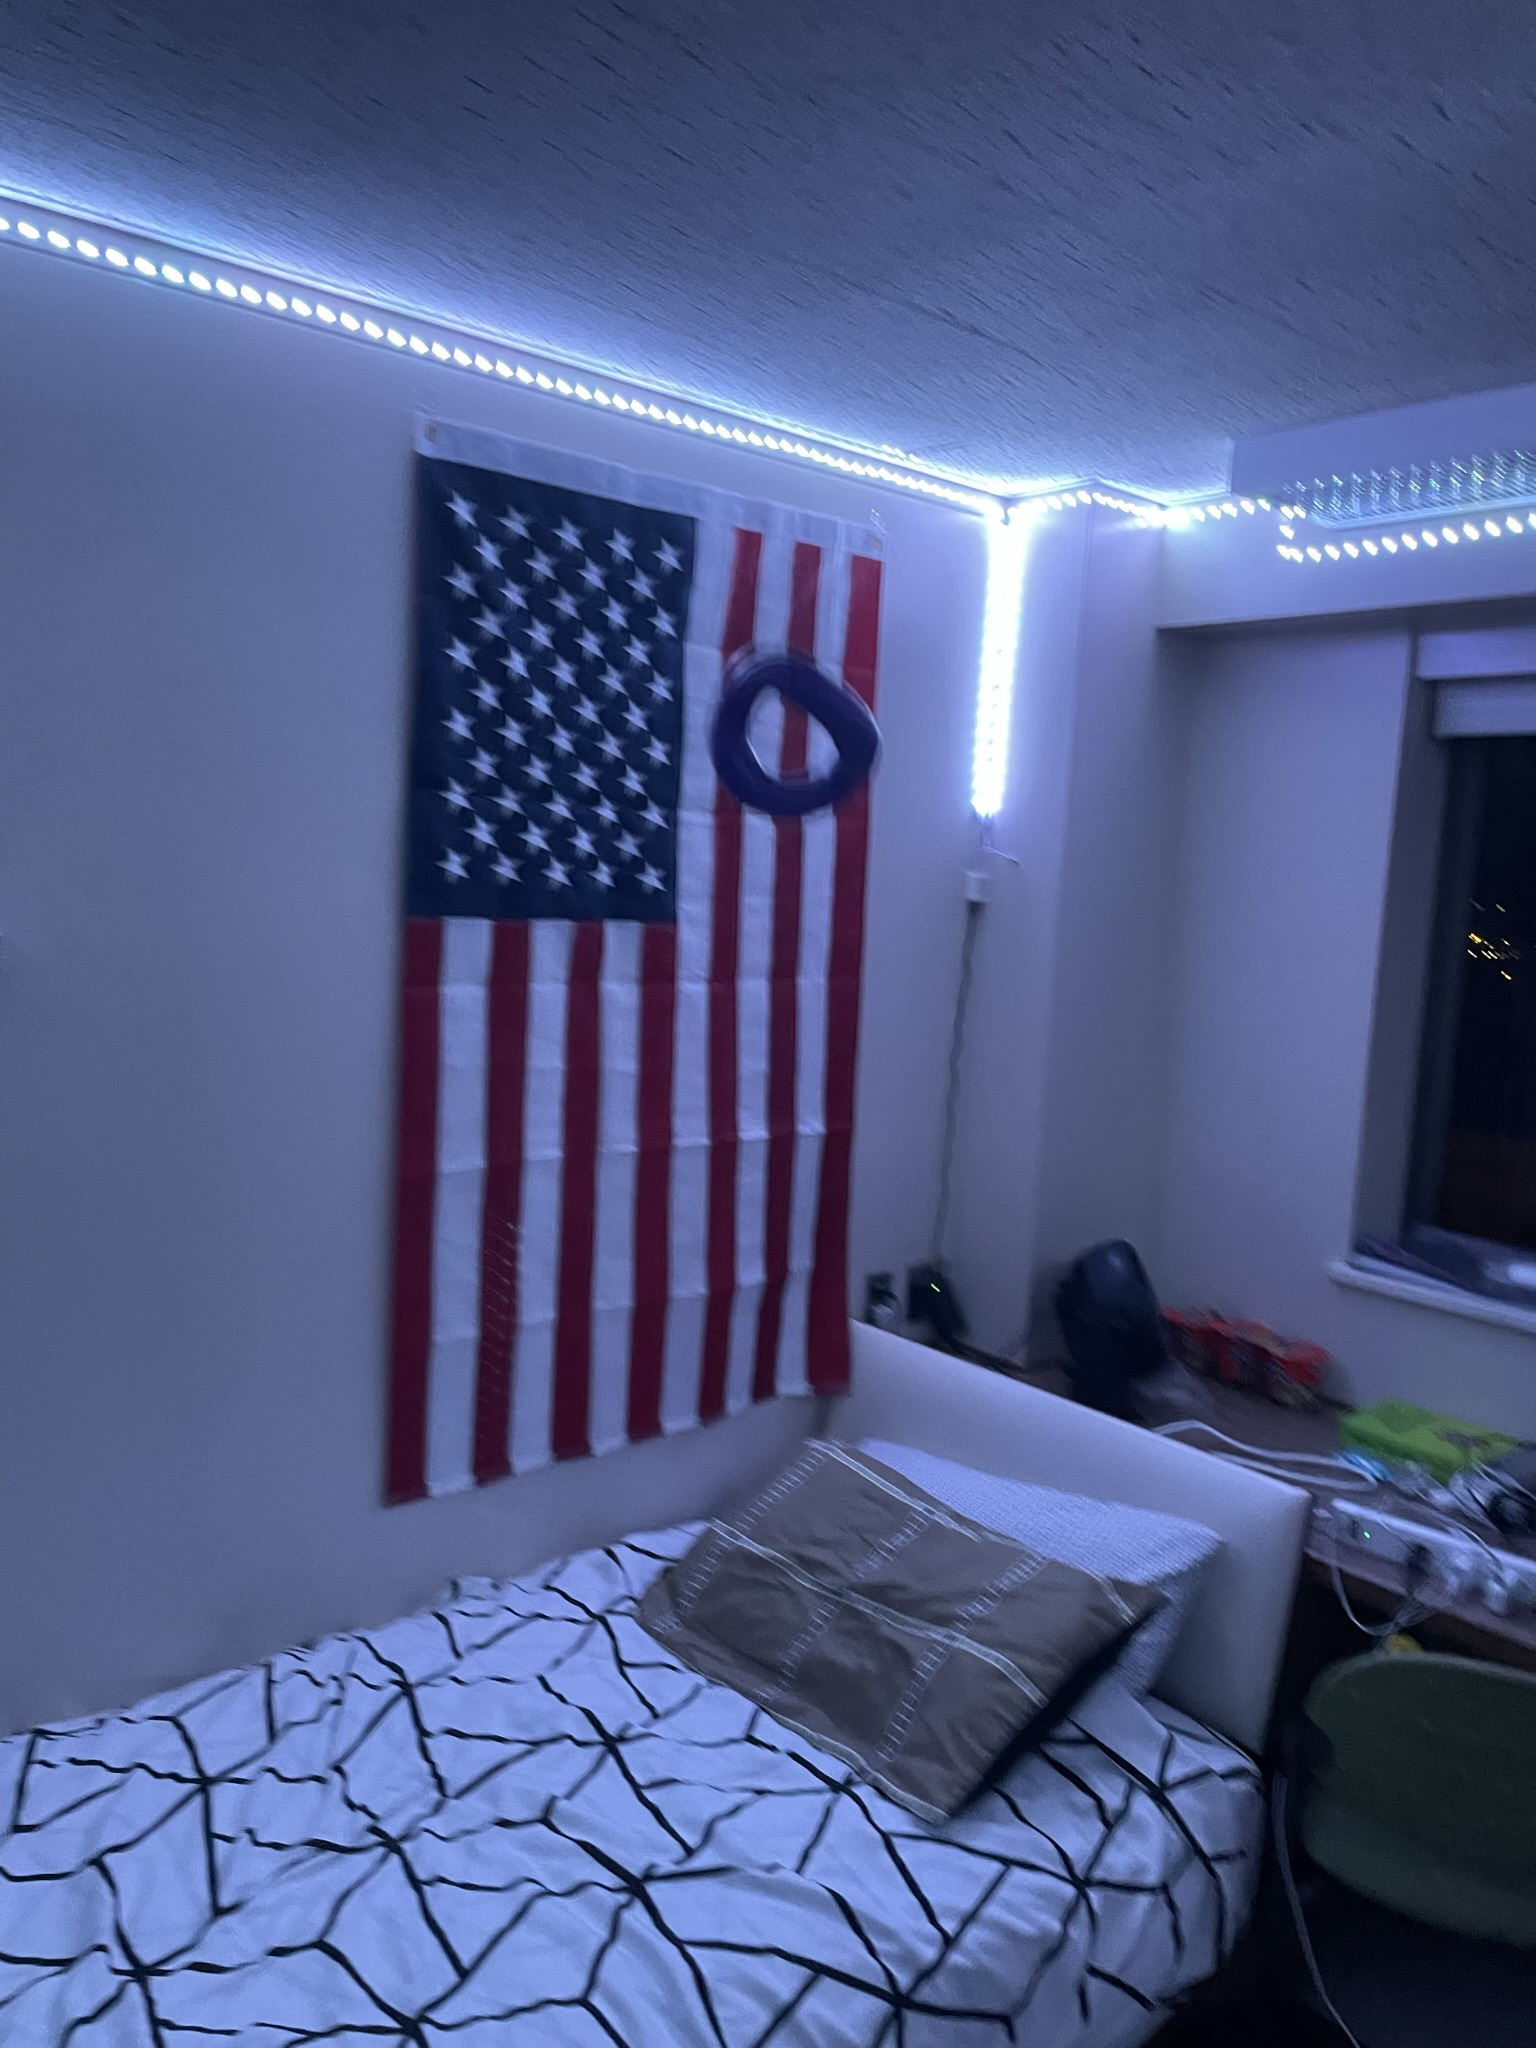ring: (699, 645, 883, 818)
